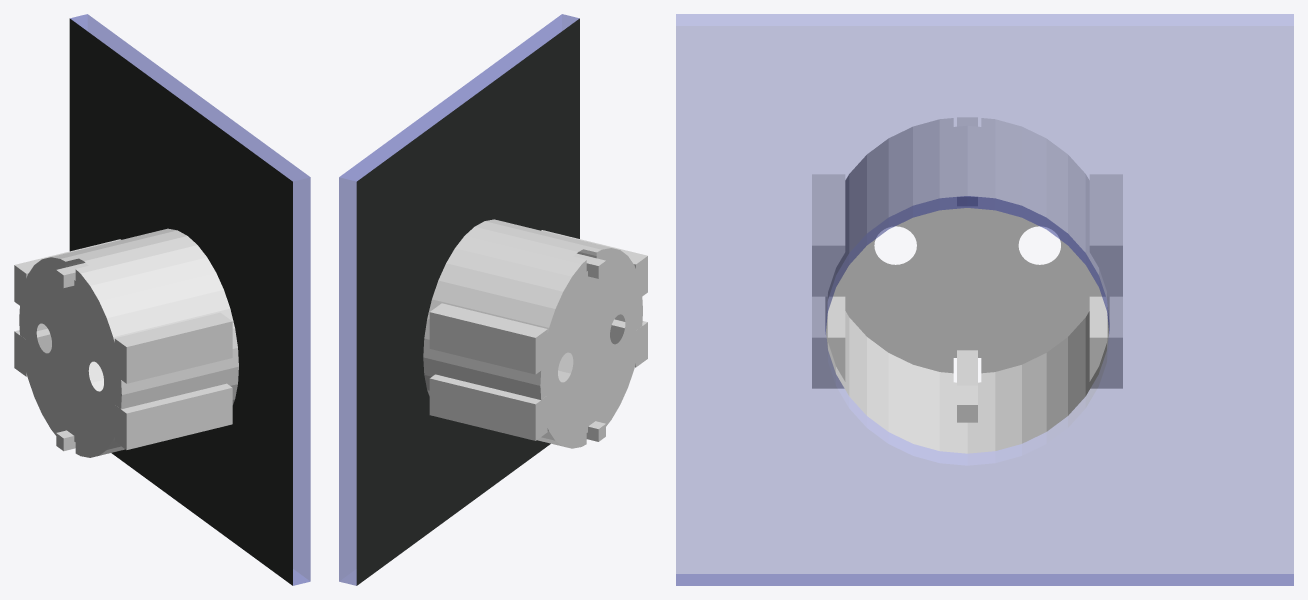
The picture shows the model from 3 angles, left to right: view 1: azimuth 30°, elevation 25°; view 2: azimuth 150°, elevation 25°; view 3: azimuth 270°, elevation 25°; orthographic projection. The views are drawn at different scales.
Parts seen in each view (by area): view 1: Steckdose Simpel; view 2: Steckdose Simpel; view 3: Steckdose Simpel.
Boxes of the visible parts, box(x1,y1,x2,y2) form: Steckdose Simpel: box(14, 14, 310, 585); Steckdose Simpel: box(339, 14, 647, 585); Steckdose Simpel: box(676, 14, 1293, 585).
Size of the model in its own units: 1.71 by 4.55 by 4.55.
